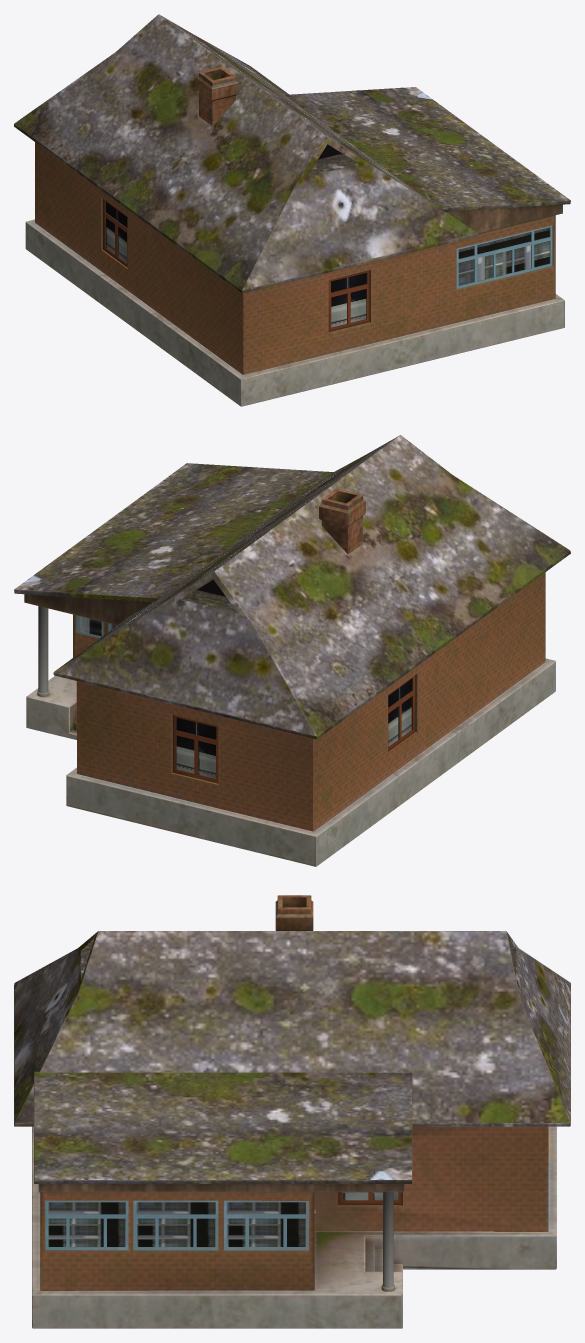
Rendered from h_brick.glb.
3 views of the same model, one above another, from view 1: azimuth 30°, elevation 25°; view 2: azimuth 150°, elevation 25°; view 3: azimuth 270°, elevation 25° (orthographic). The views are drawn at different scales.
Visible parts, largest first — view 1: body|Material.002, body|checker_map_gravity, body|Material.001, body|Material.006; view 2: body|Material.002, body|checker_map_gravity, body|Material.006; view 3: body|Material.002, body|checker_map_gravity, body|Material.012.
Boxes of the visible parts, x1,y1,x2,y2 form: body|Material.002: (14,14,570,293); body|checker_map_gravity: (25,67,564,406); body|Material.001: (458,227,549,285); body|Material.006: (106,202,366,327); body|Material.002: (14,435,570,739); body|checker_map_gravity: (24,488,555,866); body|Material.006: (176,679,411,778); body|Material.002: (14,931,570,1183); body|checker_map_gravity: (32,895,556,1328); body|Material.012: (48,1202,305,1246).
Bounding box in the file's own units: 11.39 × 7.53 × 13.38.
13 materials, 9 textured.
